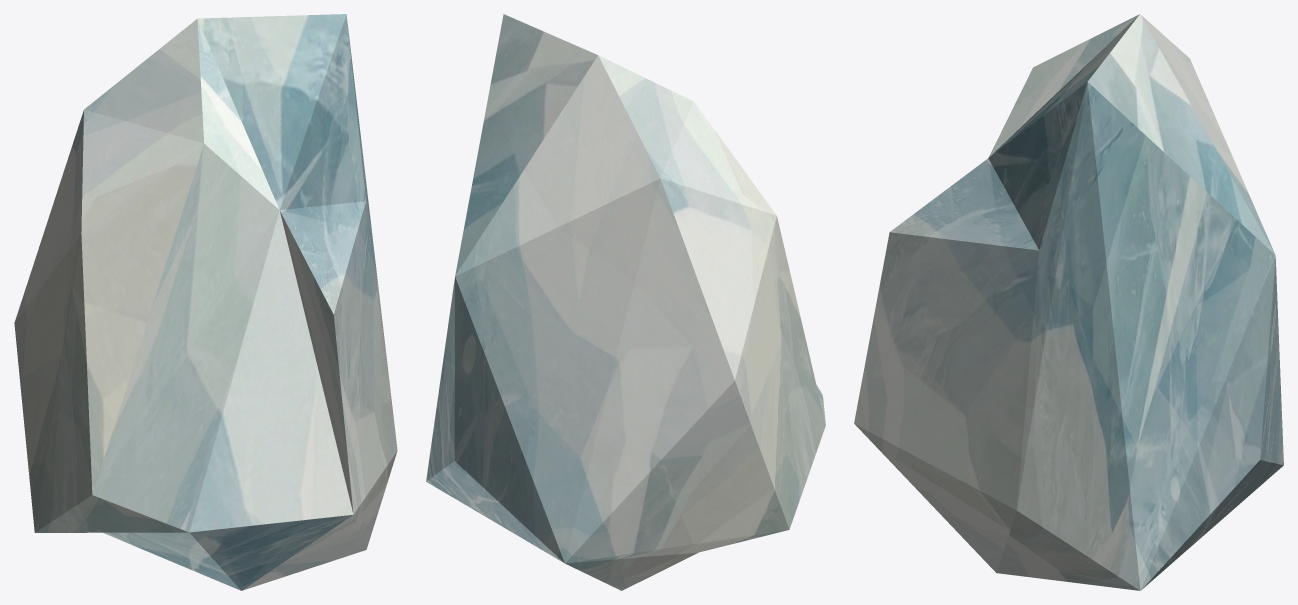
Rendered from icebergA.fbx.
3 renders of one model, left to right at view 1: azimuth 30°, elevation 25°; view 2: azimuth 150°, elevation 25°; view 3: azimuth 270°, elevation 25°, orthographic. The views are drawn at different scales.
Parts seen in each view (by area): view 1: Iceberg_TipoA; view 2: Iceberg_TipoA; view 3: Iceberg_TipoA.
Boxes of the visible parts, box(x1,y1,x2,y2) form: Iceberg_TipoA: box(14, 14, 397, 590); Iceberg_TipoA: box(426, 14, 825, 590); Iceberg_TipoA: box(854, 14, 1283, 590).
Size of the model in its own units: 602 by 857 by 619.
Materials: 1 (1 with a texture image).
